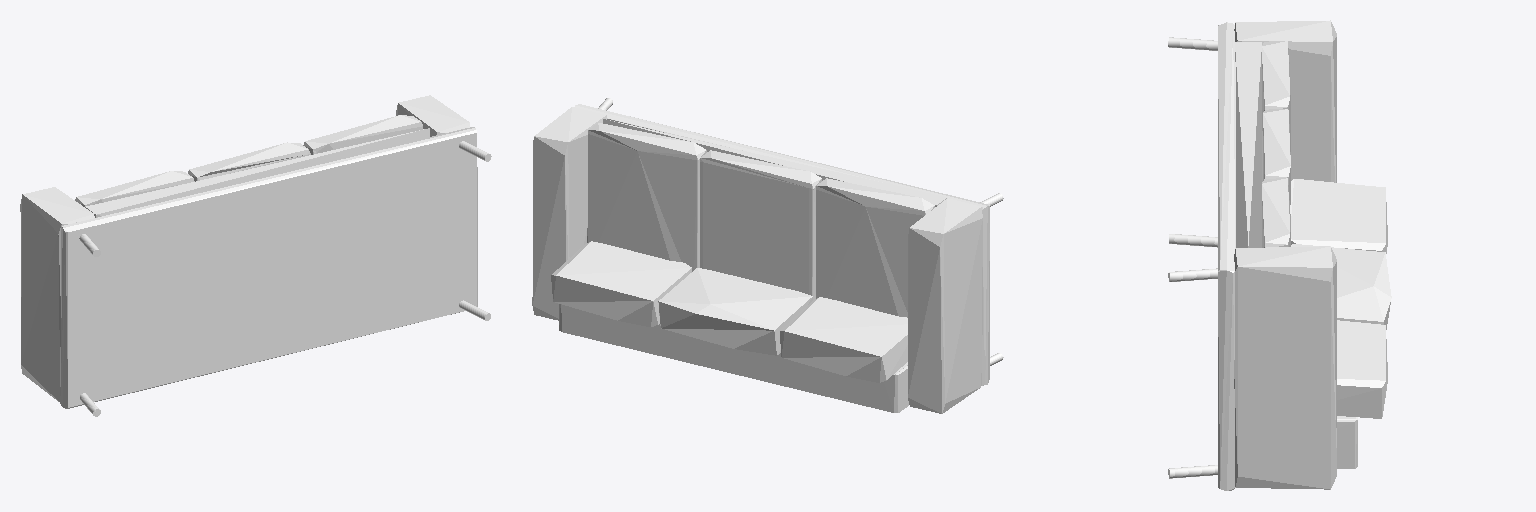
URDF robot description (simple_couch6.obj):
<robot name="simple_couch6.obj">
	<link name="_name">
		<visual>
			<origin xyz="0 0 0" rpy="0 0 0" />
			<geometry>
				<mesh filename="simple_couch6.obj" scale="1.0 1.0 1.0" />
			</geometry>
			<material name="texture">
				<color rgba="1.0 1.0 1.0 1.0" />
			</material>
		</visual>
		<collision>
			<geometry>
				<mesh filename="simple_couch6_vhacd.obj" scale="1.0 1.0 1.0" />
			</geometry>
		</collision>
		<inertial>
			<mass value="1.0" />
			<inertia ixx="1.0" ixy="0.0" ixz="0.0" iyy="1.0" iyz="0.0" izz="1.0" />
		</inertial>
	</link>
</robot>

--- Render facts (derived) ---
Views: 3 orthographic renders of the robot side by side, from view 1: azimuth 30°, elevation 25°; view 2: azimuth 150°, elevation 25°; view 3: azimuth 270°, elevation 25°.
Model simple_couch6.obj with 1 links and 0 joints (none), rooted at _name, posed every joint at zero.
Visible links, largest first — view 1: _name; view 2: _name; view 3: _name.
Boxes of the visible links, x1=… form: _name: x1=20, y1=95, x2=491, y2=416; _name: x1=532, y1=98, x2=1003, y2=413; _name: x1=1168, y1=20, x2=1391, y2=490.
Bounding box of the posed robot: 2 × 0.7612 × 0.8579 m (x, y, z).
1 mesh visuals loaded from 1 distinct referenced files (1 OBJ).